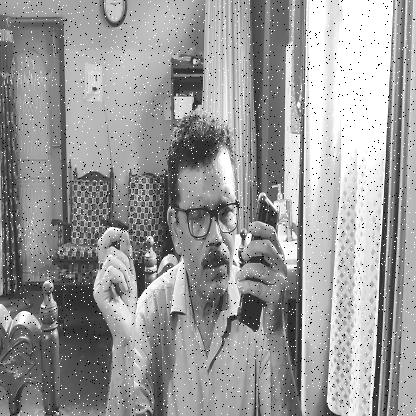Distracted: (162, 115, 244, 308)
